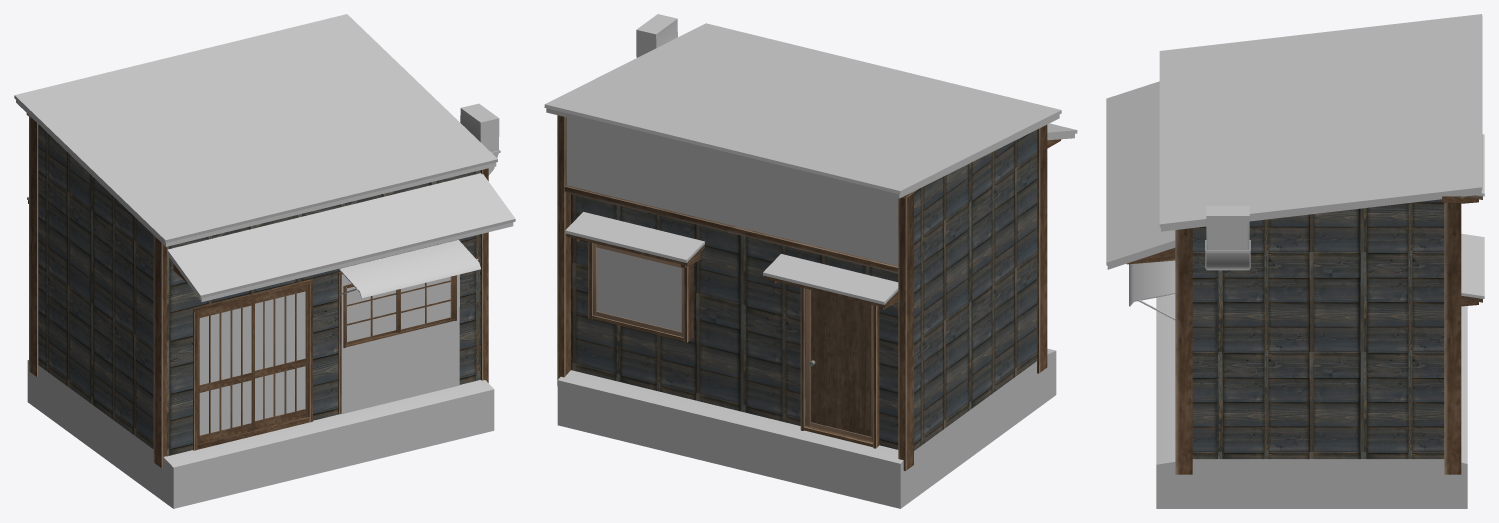
Rendered from ms_small_3k.fbx.
3 views of the same model, side by side, from view 1: azimuth 30°, elevation 25°; view 2: azimuth 150°, elevation 25°; view 3: azimuth 270°, elevation 25° (orthographic). The views are drawn at different scales.
Parts seen in each view (by area): view 1: ms_small_3k; view 2: ms_small_3k; view 3: ms_small_3k.
Part boxes in pixels (x1,y1,x2,y2): ms_small_3k: [14, 14, 515, 508]; ms_small_3k: [544, 14, 1077, 508]; ms_small_3k: [1106, 14, 1484, 508].
Size of the model in its own units: 650 by 529 by 560.
